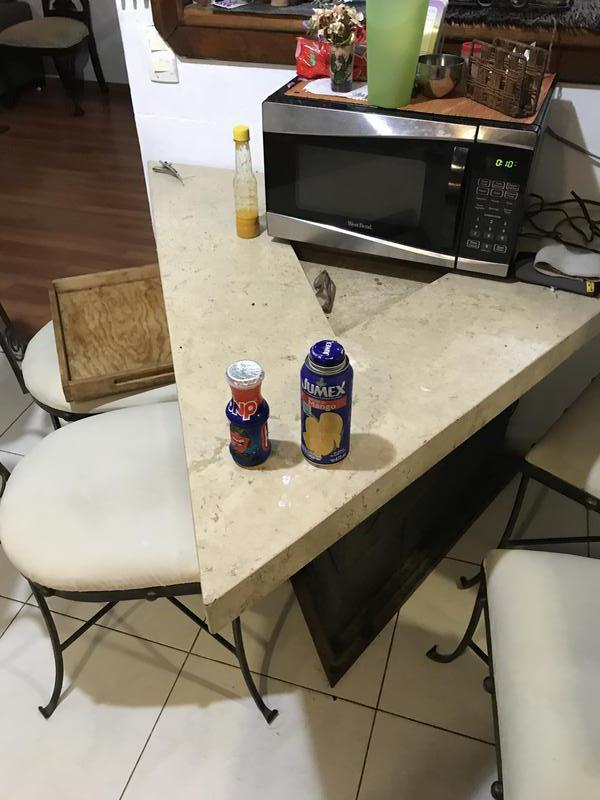danup: (224, 363, 272, 468)
jugo_jumex: (297, 343, 356, 468)
